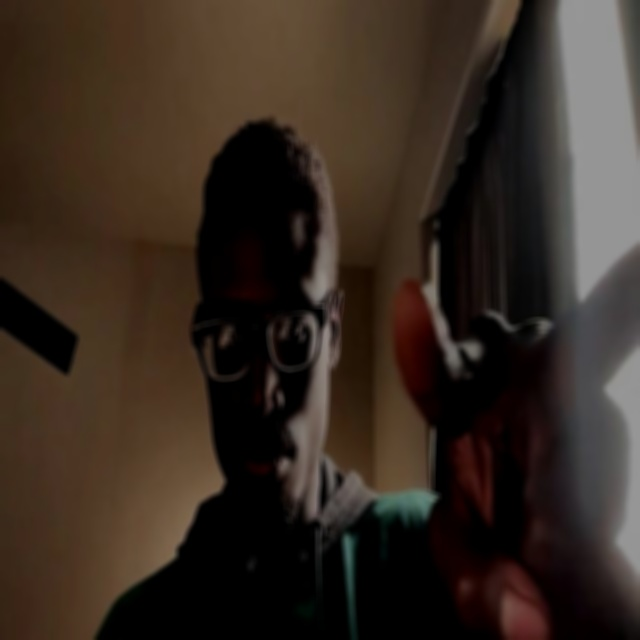Scissors: (392, 228, 640, 640)
